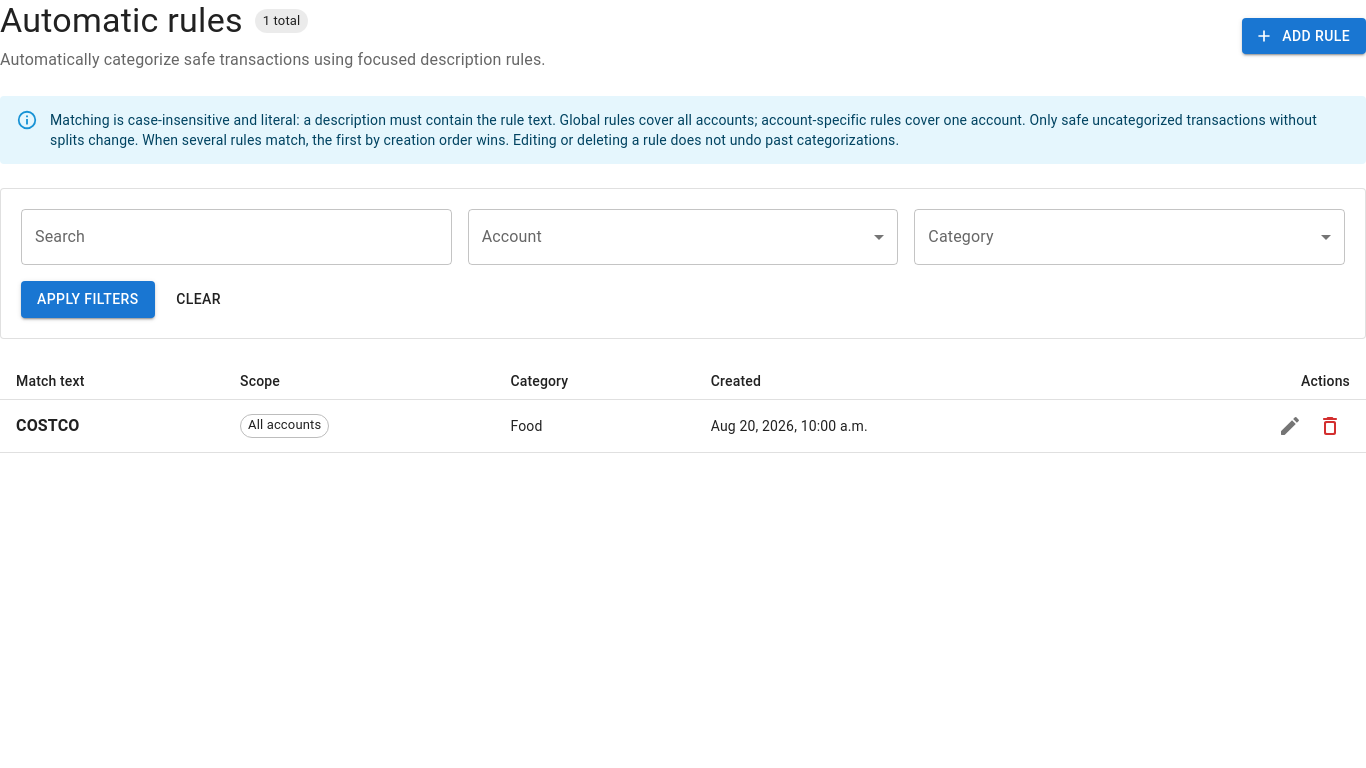
Scenario: rules view › closes successful deletion with historical-no-undo wording and refreshes the current query
What coordinates should you click on to do the following:
click the button named "Delete rule COSTCO"
I would click on:
 (1330, 426)
Its box is [1310,406,1350,446].
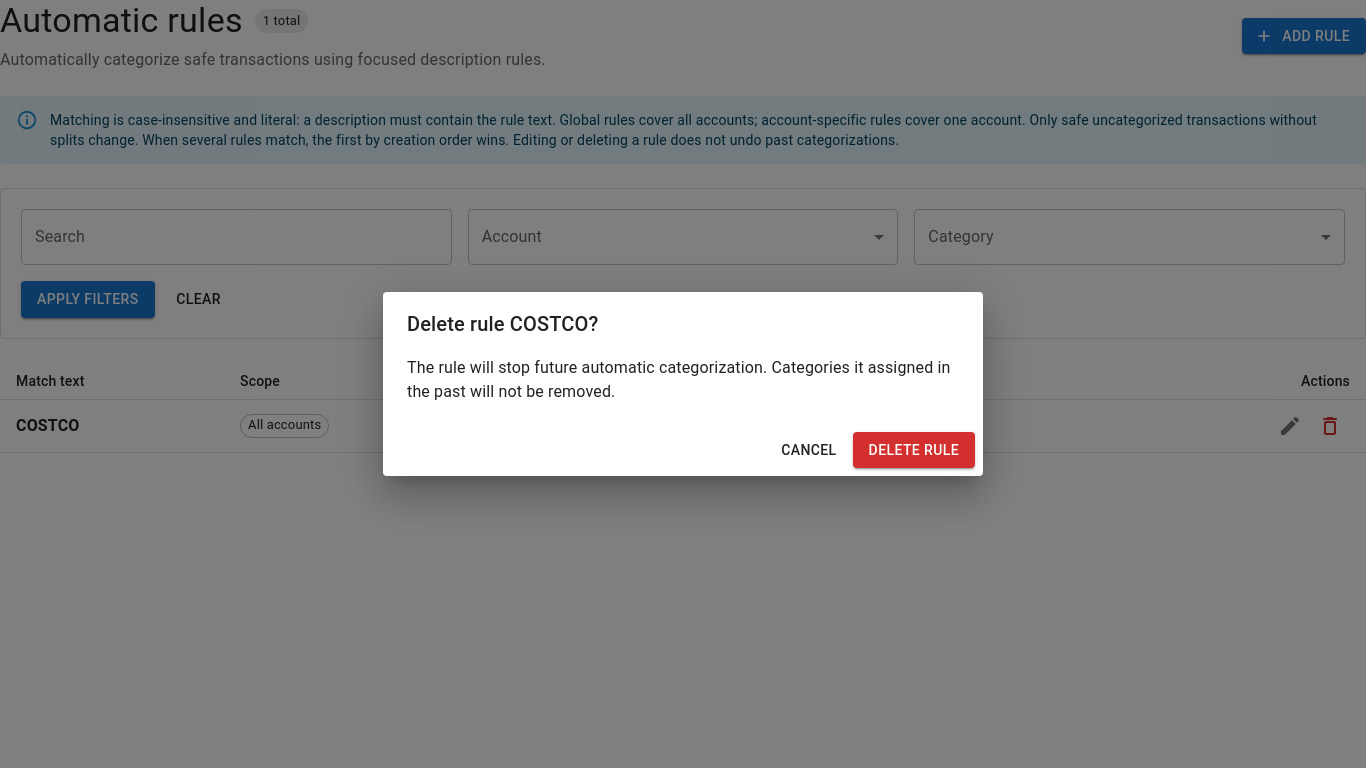
Now the text "Categories it assigned in the past will not be removed" is shown, box [407,358,950,401]
What coordinates should you click on to do the following:
click the button "Delete rule"
I would click on:
 (914, 450)
Its box is [853,432,975,468].
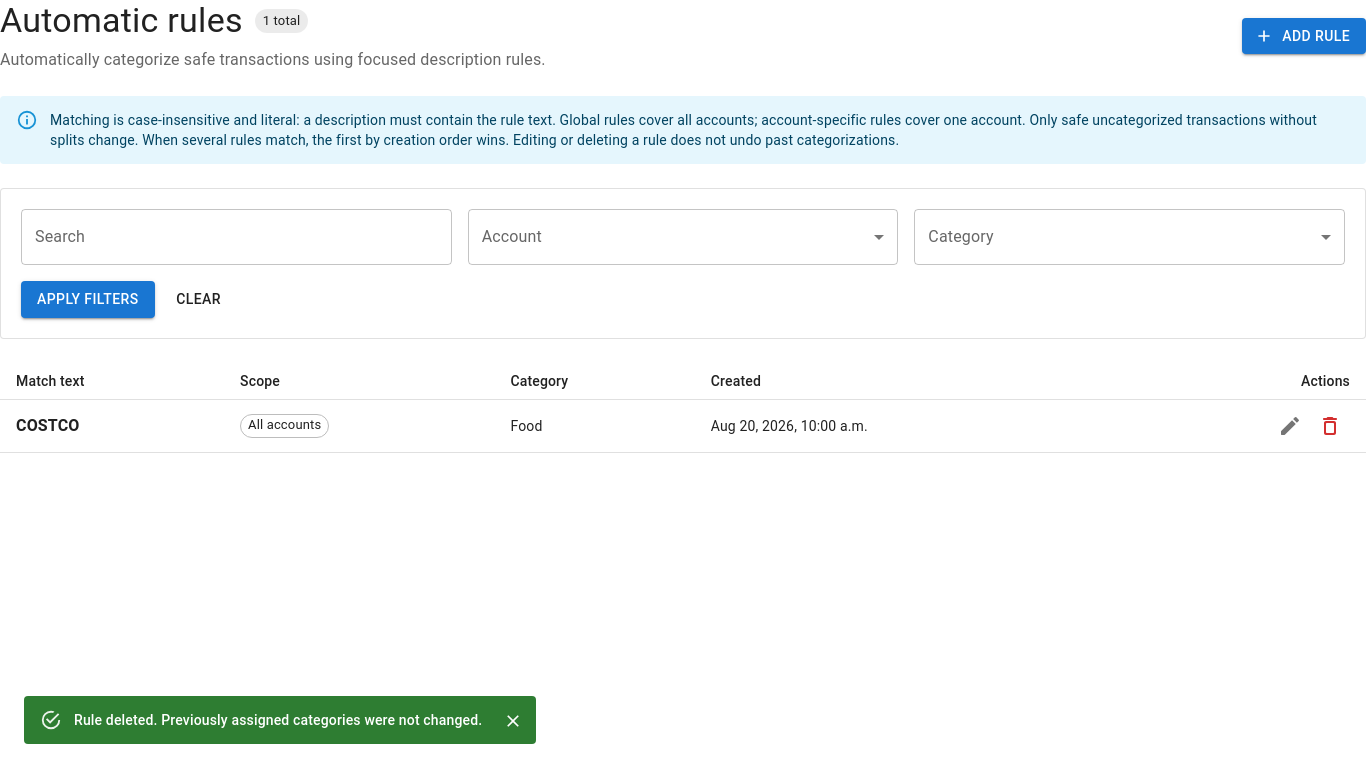
Now the dialog is gone
Now the text "Rule deleted. Previously assigned categories were not changed." is shown, box [74,712,482,728]
